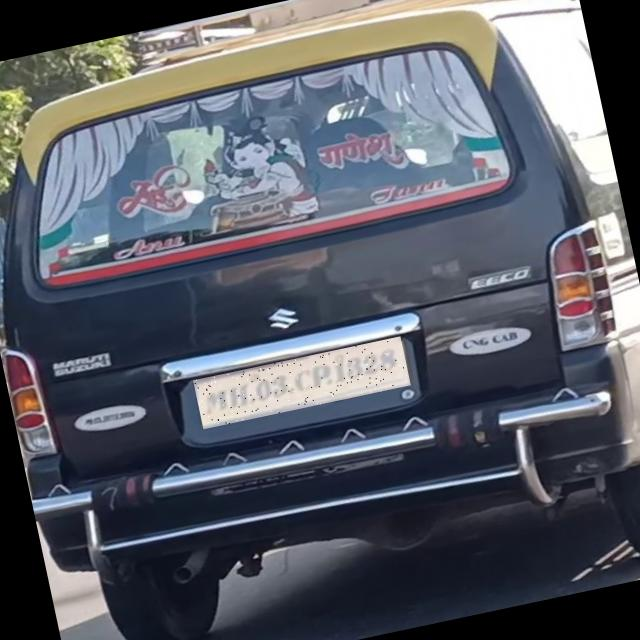Plate: (194, 337, 412, 430)
